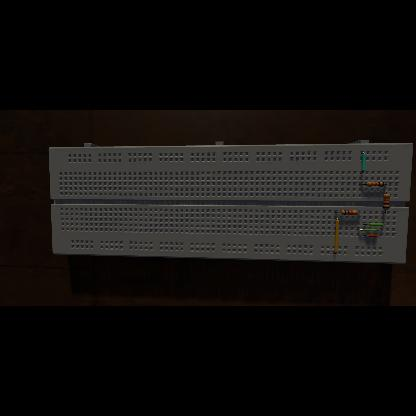breadboard: (49, 140, 413, 264)
resistor: (382, 194, 390, 210), (366, 182, 386, 186), (342, 211, 358, 215)
wire: (333, 218, 339, 254), (360, 152, 366, 174), (362, 234, 378, 238), (364, 224, 384, 226), (358, 229, 378, 231), (359, 184, 367, 186), (382, 210, 386, 214), (383, 191, 387, 194), (335, 212, 341, 214)
